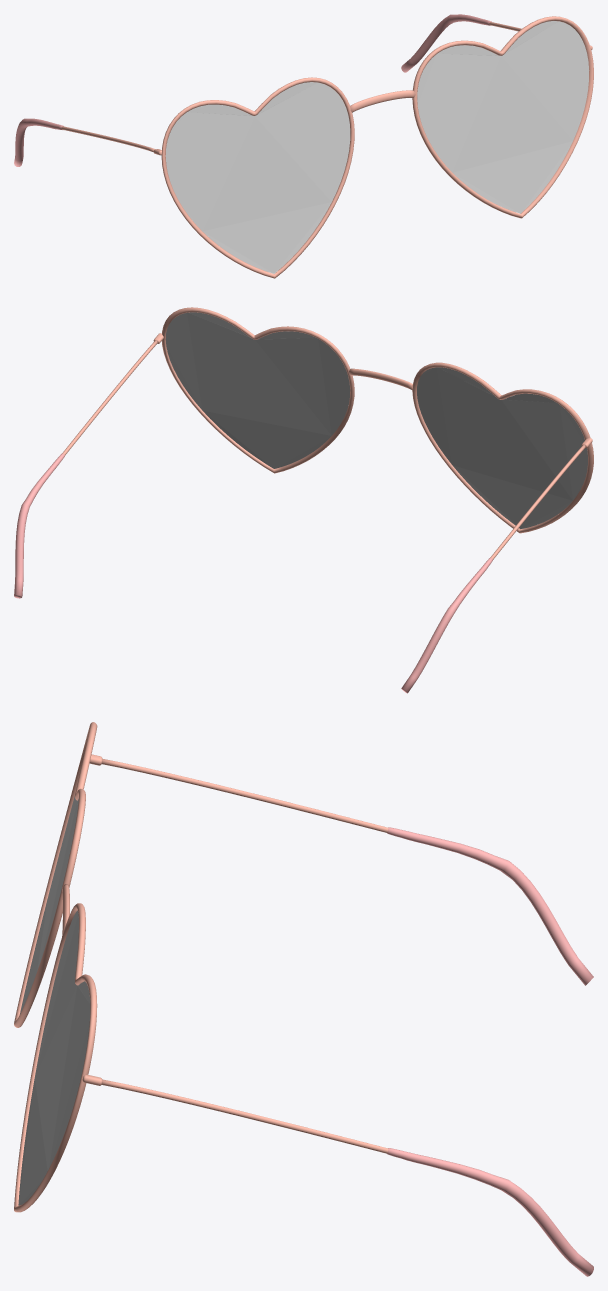
File: Heartstopper.fbx
3 views of the same model, one above another, from view 1: azimuth 30°, elevation 25°; view 2: azimuth 150°, elevation 25°; view 3: azimuth 270°, elevation 25° (orthographic). The views are drawn at different scales.
Visible parts, largest first — view 1: Object_8, Object_4, Object_6, Object_12; view 2: Object_8, Object_4, Object_6, Object_12; view 3: Object_8, Object_4, Object_6, Object_12.
Boxes of the visible parts, <box> form: Object_8: <box>165,21,589,273</box>; Object_4: <box>161,16,593,278</box>; Object_6: <box>14,14,491,166</box>; Object_12: <box>61,22,521,152</box>; Object_8: <box>165,312,587,529</box>; Object_4: <box>162,307,593,533</box>; Object_6: <box>14,453,492,693</box>; Object_12: <box>62,340,585,559</box>; Object_8: <box>18,796,90,1205</box>; Object_4: <box>14,722,97,1212</box>; Object_6: <box>387,827,593,1276</box>; Object_12: <box>101,758,388,1153</box>.
Bounding box in the file's own units: 473 × 186 × 356.
